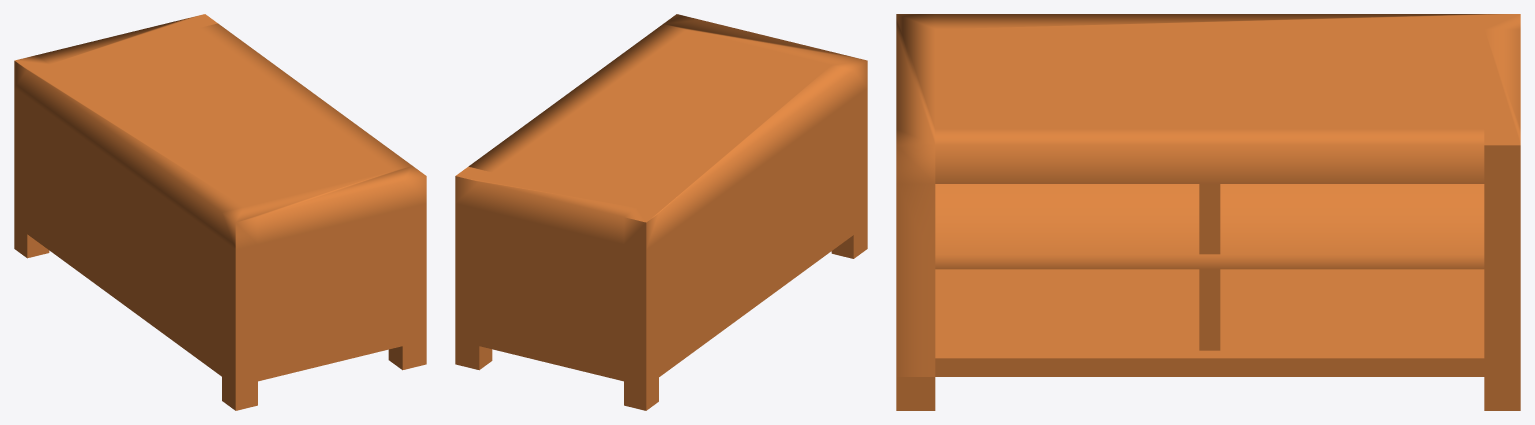
Rendered from tv_bord (1).fbx.
The picture shows the model from 3 angles, left to right: view 1: azimuth 30°, elevation 25°; view 2: azimuth 150°, elevation 25°; view 3: azimuth 270°, elevation 25°; orthographic projection. The views are drawn at different scales.
Parts seen in each view (by area): view 1: Cube; view 2: Cube; view 3: Cube.
Boxes of the visible parts, x1,y1,x2,y2 form: Cube: (14,14,426,410); Cube: (455,14,867,410); Cube: (896,14,1520,410).
Bounding box in the file's own units: 1055 × 996 × 2121.
